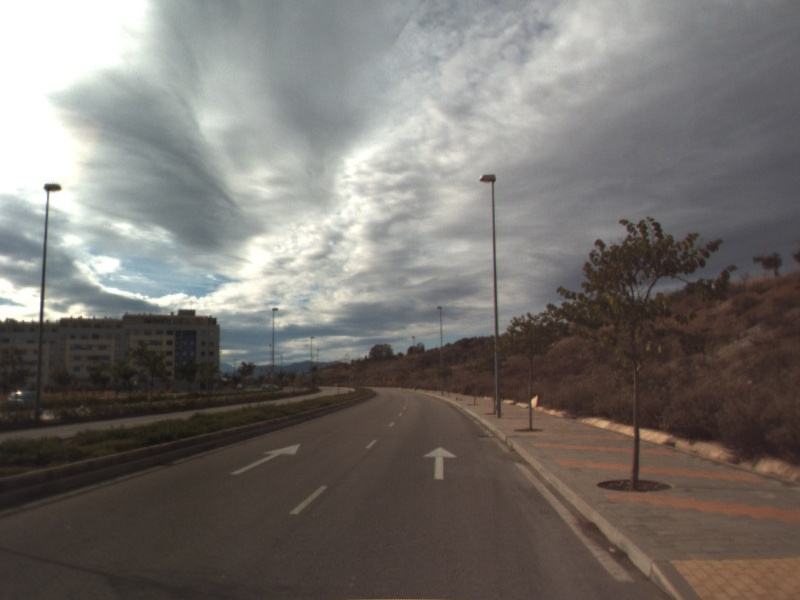STRAIGHT: (228, 441, 303, 477), (421, 445, 459, 482)
